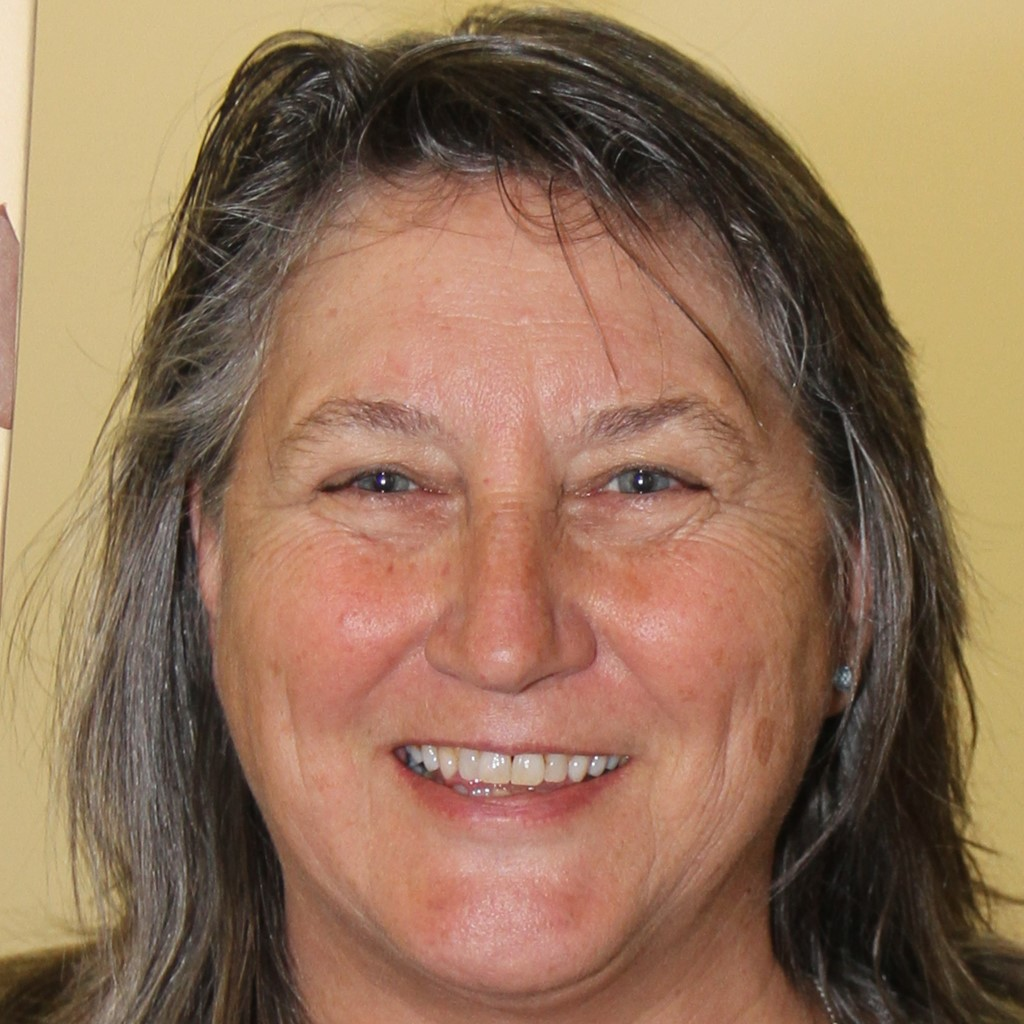sin_mascara: (205, 114, 853, 1000)
